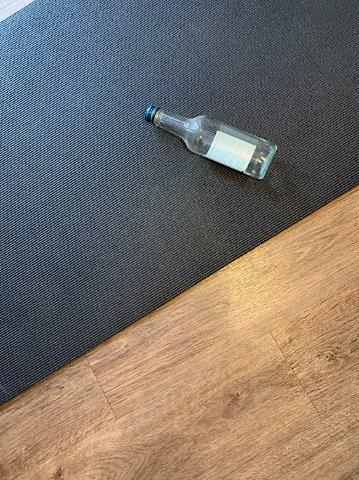botolkaca: (145, 105, 277, 178)
